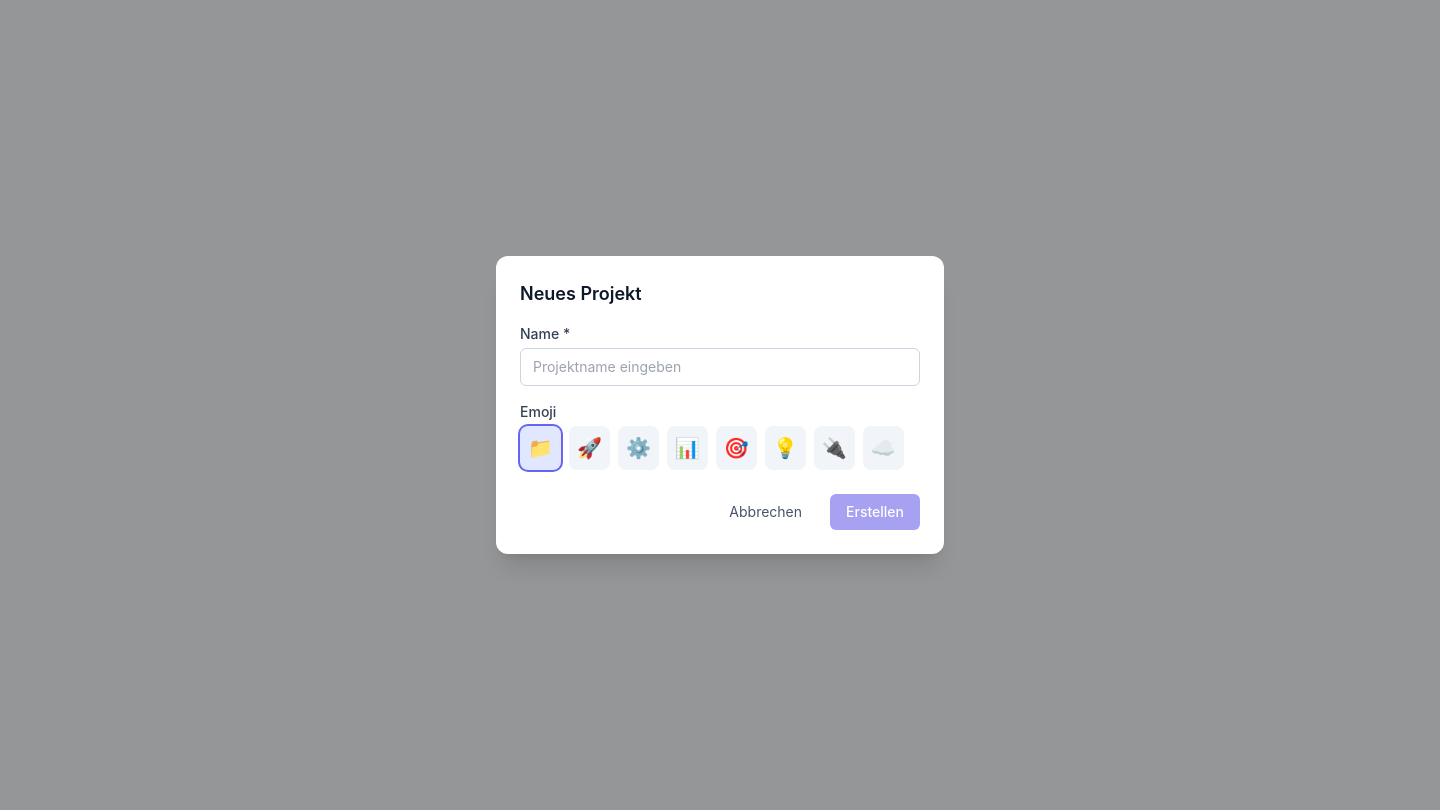
Test: CreateProjectModal › shows error message on submit failure
This screenshot has width=1440, height=810.
Type "P" into the field labelled "Name *".
click(720, 367); type("P")  # box [520,348,920,386]
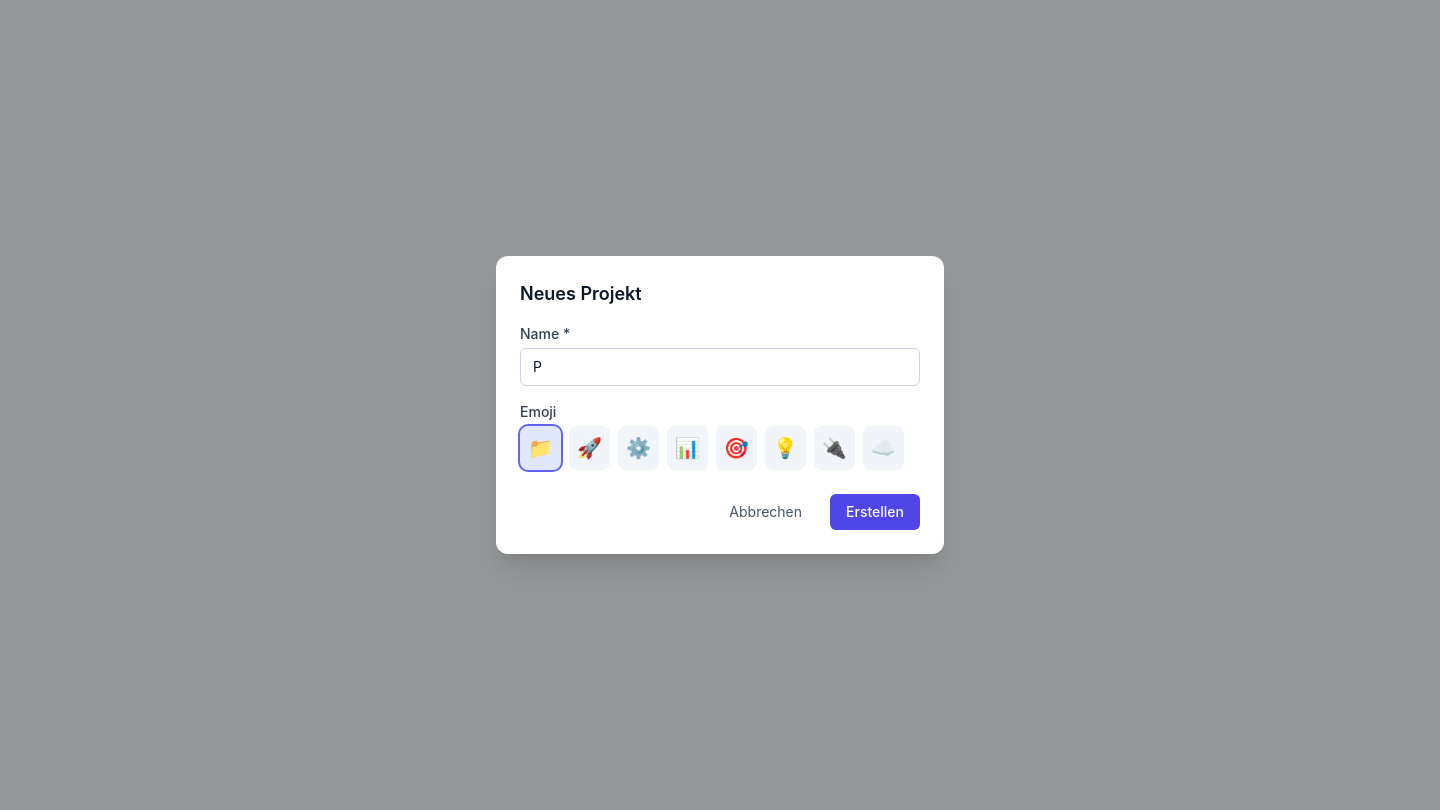
Click the button "Erstellen".
click(875, 512)  # box [830,494,920,530]
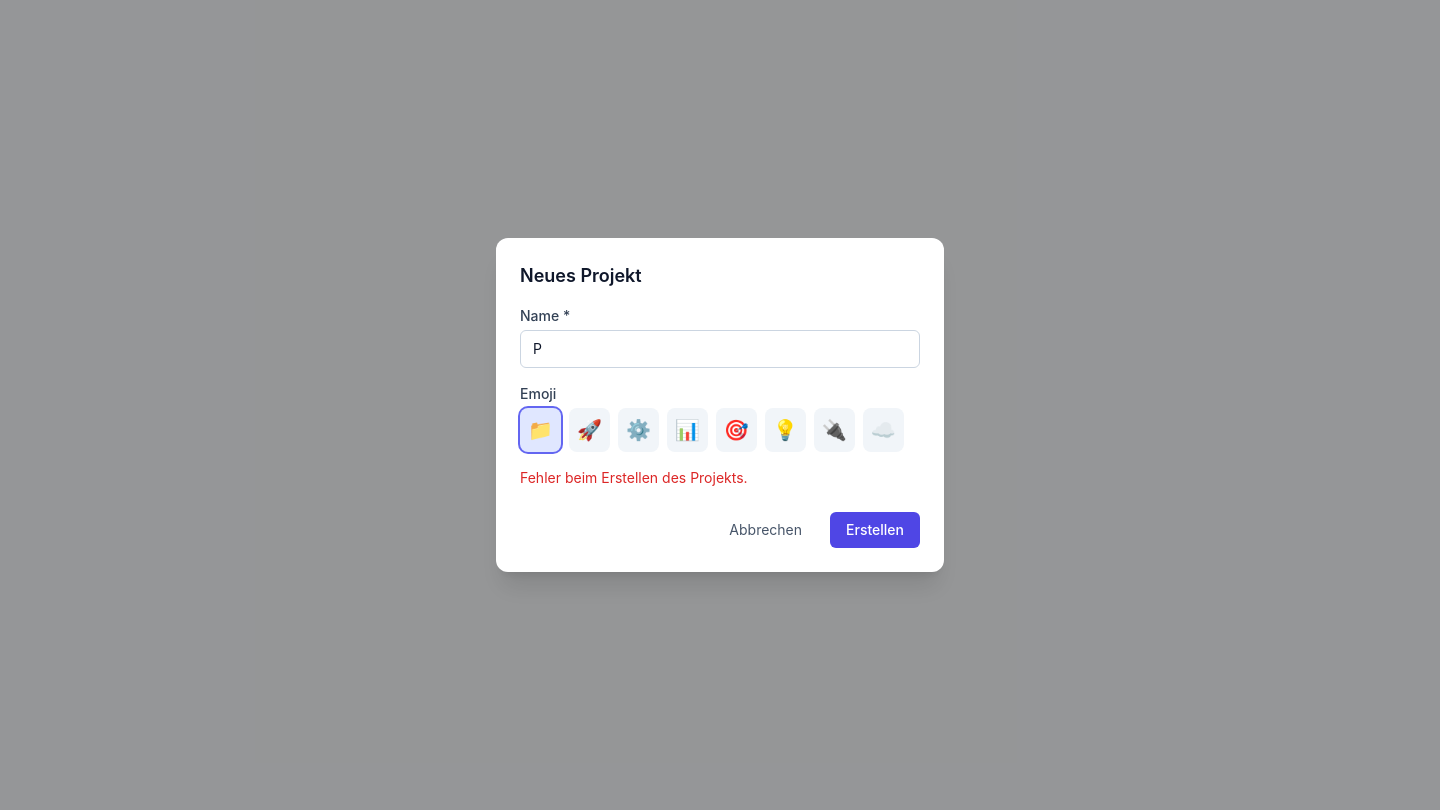
expect the text "Fehler beim Erstellen des Projekts." is shown: met, box [520,469,748,486]
